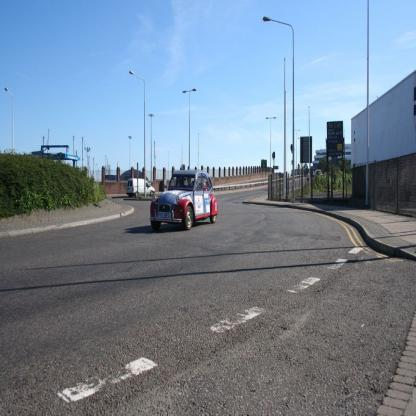car: (150, 170, 218, 230)
